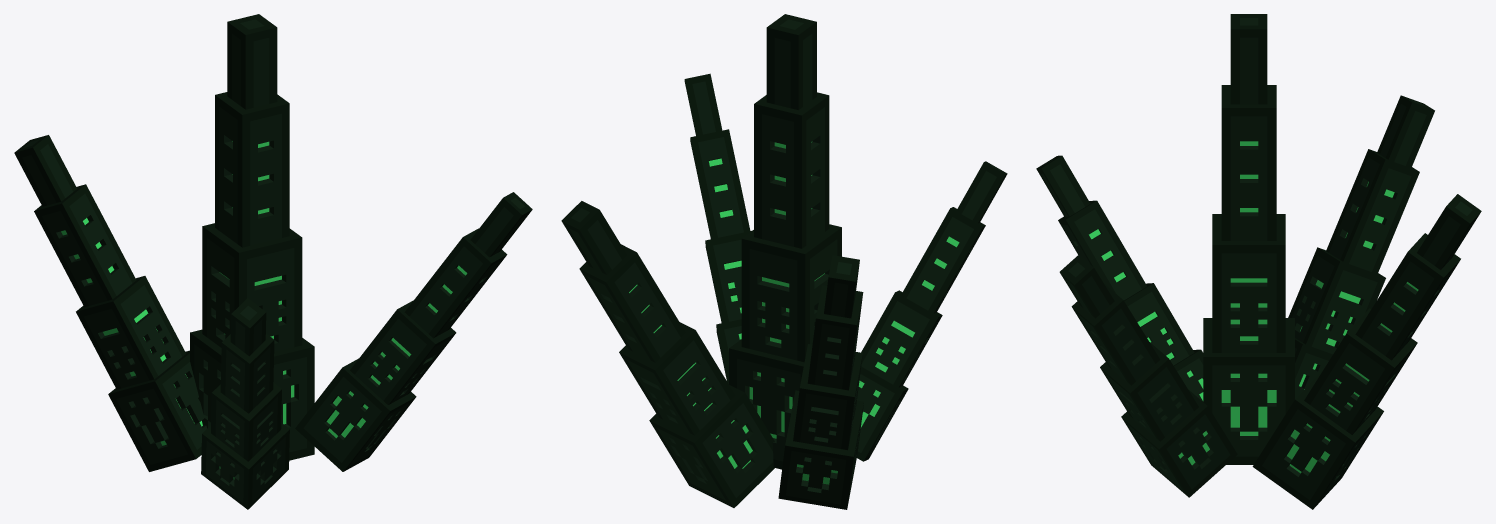
Rendered from Green Guardian Spikes.fbx.
3 renders of one model, left to right at view 1: azimuth 30°, elevation 25°; view 2: azimuth 150°, elevation 25°; view 3: azimuth 270°, elevation 25°, orthographic.
Visible parts, largest first — view 1: Green Guardian Spike 1, Green Guardian Spike 5, Green Guardian Spike 3, Green Guardian Spike 4; view 2: Green Guardian Spike 1, Green Guardian Spike 2, Green Guardian Spike 5, Green Guardian Spike 4, Green Guardian Spike 3; view 3: Green Guardian Spike 1, Green Guardian Spike 2, Green Guardian Spike 5, Green Guardian Spike 3, Green Guardian Spike 4.
Part boxes in pixels (x1,y1,x2,y2): Green Guardian Spike 1: (190,14,314,460); Green Guardian Spike 5: (14,135,206,471); Green Guardian Spike 3: (295,192,532,471); Green Guardian Spike 4: (201,298,289,509); Green Guardian Spike 1: (729,14,841,469); Green Guardian Spike 2: (561,201,774,507); Green Guardian Spike 5: (778,255,863,509); Green Guardian Spike 4: (857,161,1007,461); Green Guardian Spike 3: (684,73,751,383); Green Guardian Spike 1: (1203,14,1294,464); Green Guardian Spike 2: (1252,194,1481,509); Green Guardian Spike 5: (1288,95,1434,398); Green Guardian Spike 3: (1059,255,1237,497); Green Guardian Spike 4: (1036,155,1203,401).
Bounding box in the file's own units: 1.32 × 1.48 × 1.66.
Materials: 1 (1 with a texture image).
